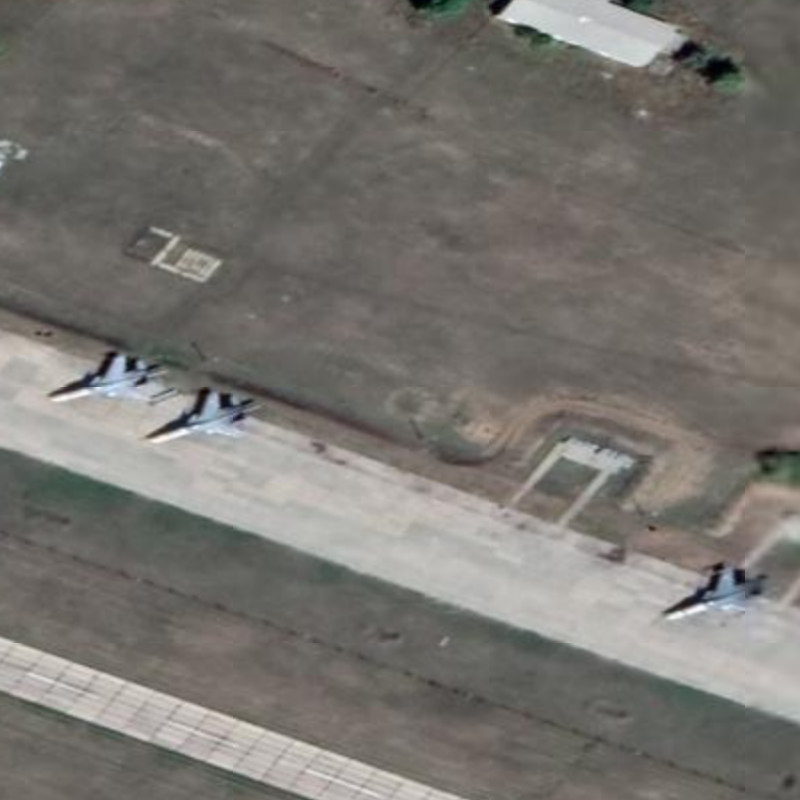A19: (142, 387, 264, 448), (45, 351, 170, 406), (660, 563, 764, 624)
